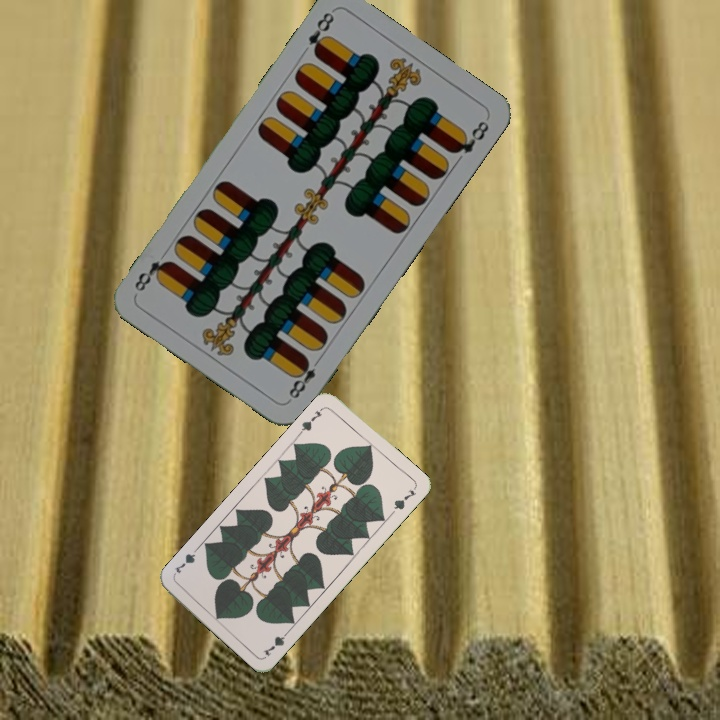E8: (284, 353, 325, 402), (304, 8, 337, 60)
G7: (259, 626, 293, 659), (295, 403, 327, 436)
